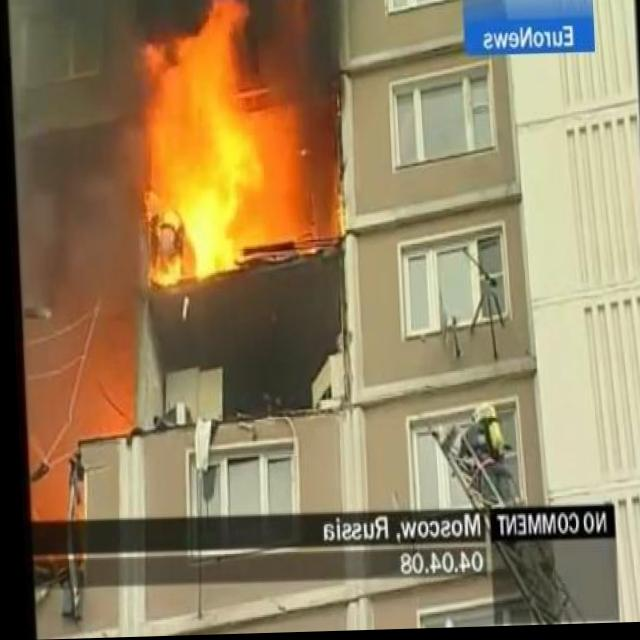fire: (123, 0, 291, 292)
